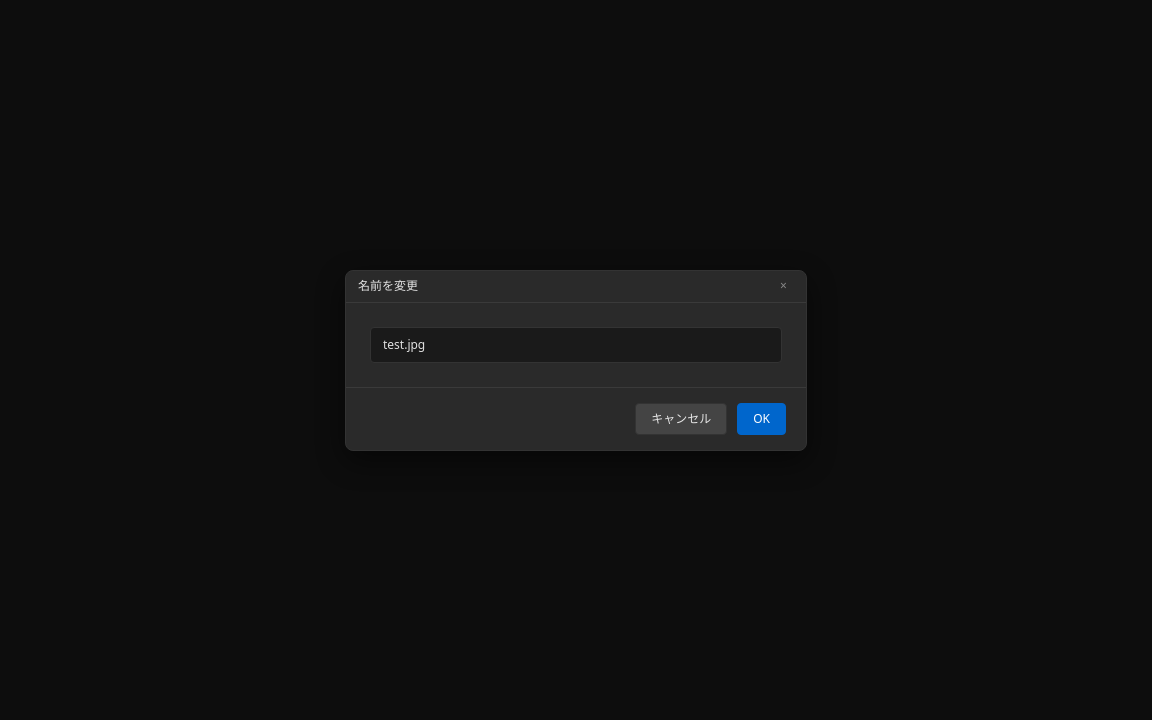
Scenario: RenameModal component › 無効な文字が含まれる場合はOKボタンが無効化されること
The width and height of the screenshot is (1152, 720).
Step 1. Replace the text in the field with "invalid/name.jpg" → (576, 344), box top-left (370, 326), bottom-right (782, 362)
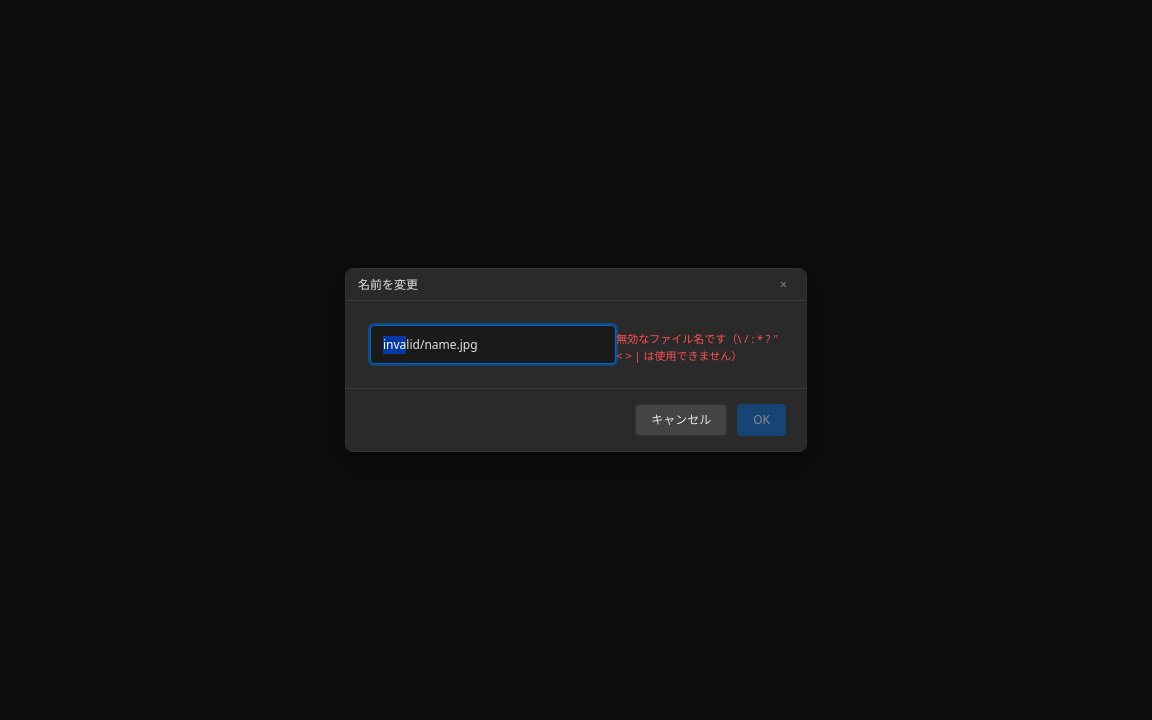
Now the button "OK" is disabled, box top-left (737, 404), bottom-right (786, 436)
